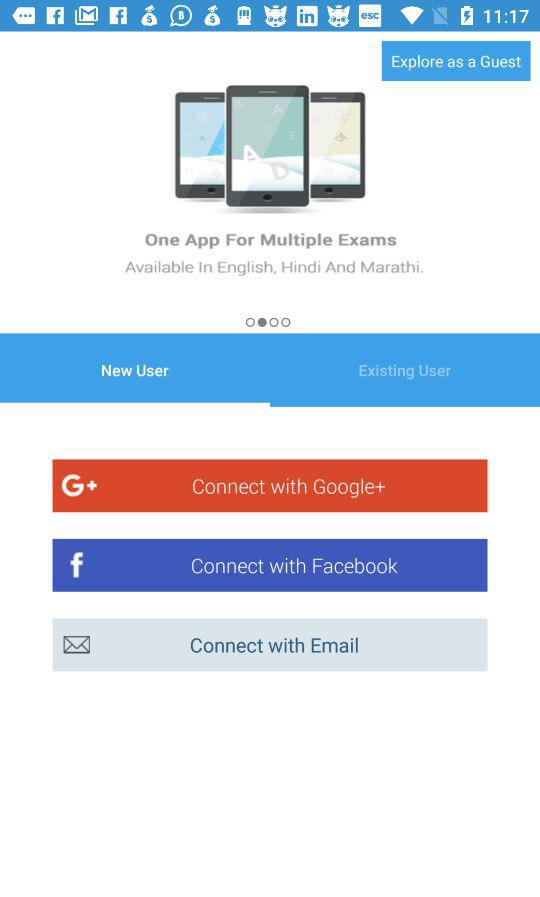Image: (175, 85, 367, 213)
Multi_Tab: (1, 334, 540, 409)
PageIndicator: (245, 317, 292, 329)
Text: (125, 260, 424, 277), (145, 233, 398, 251), (359, 364, 452, 381), (102, 364, 170, 378)
TextButton: (53, 459, 489, 513), (53, 539, 488, 593), (53, 618, 488, 672), (382, 42, 531, 83)
UpperTaskBar: (1, 1, 540, 33)
